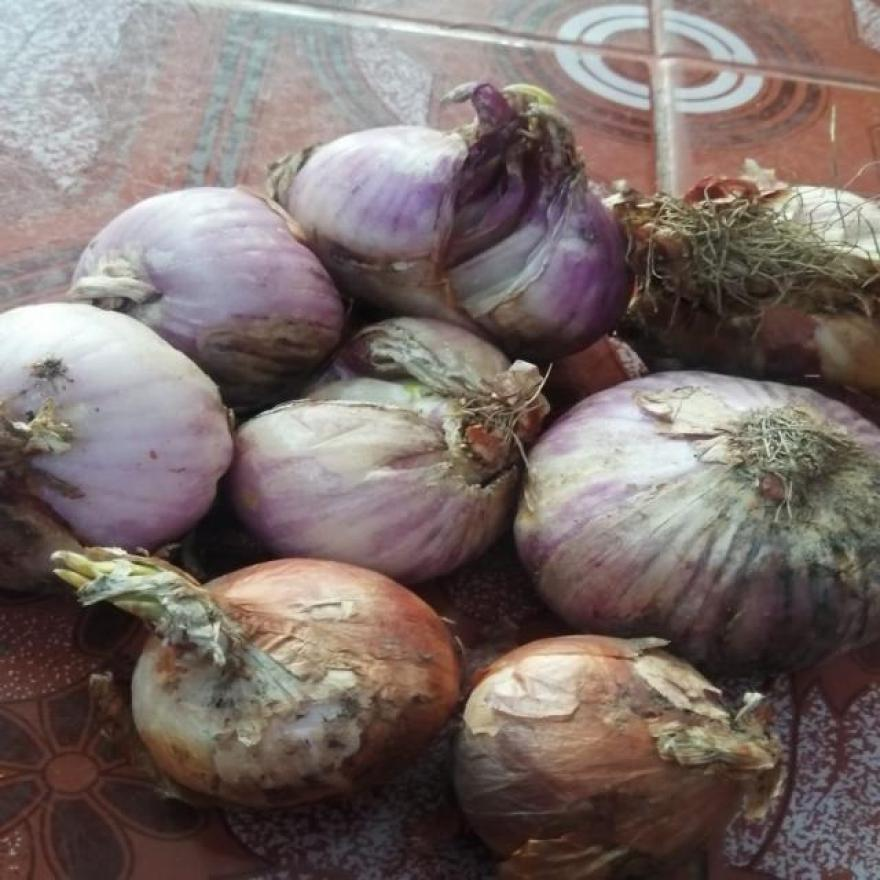Rotten: (604, 490, 880, 598), (467, 158, 553, 305), (315, 339, 434, 424)
Sprouted: (59, 565, 198, 624)
